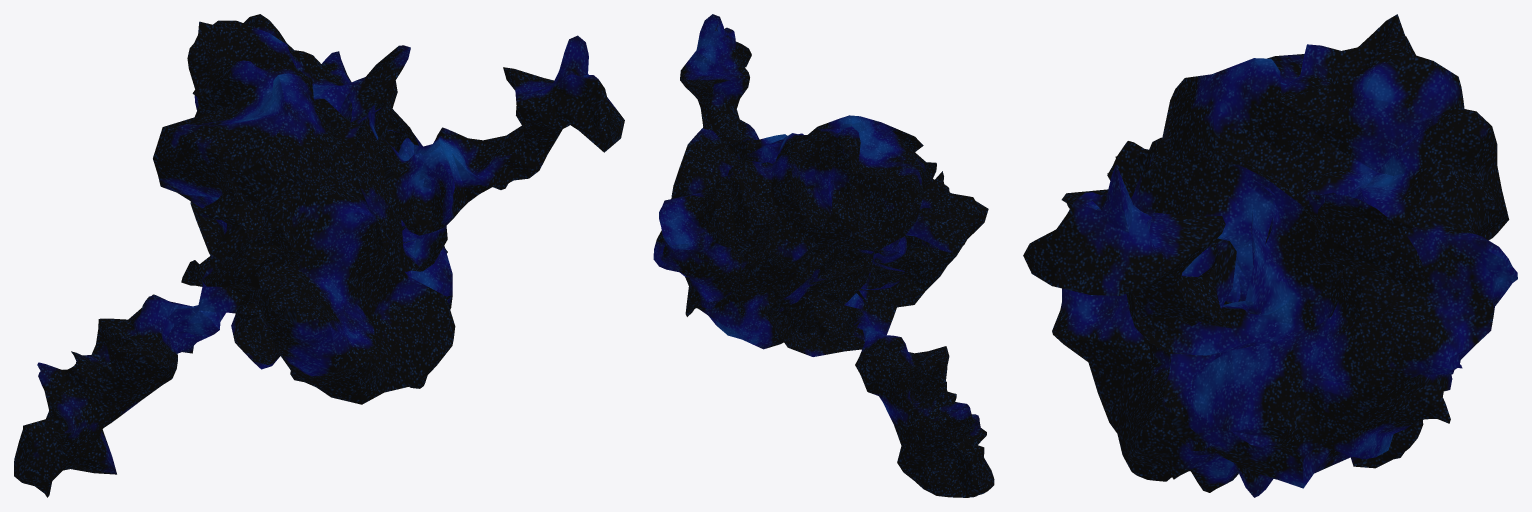
Rendered from crab_01_cloud1.glb.
3 views of the same model, side by side, from view 1: azimuth 30°, elevation 25°; view 2: azimuth 150°, elevation 25°; view 3: azimuth 270°, elevation 25° (orthographic). The views are drawn at different scales.
Visible parts, largest first — view 1: CrabNebulaCloud1Baked; view 2: CrabNebulaCloud1Baked; view 3: CrabNebulaCloud1Baked.
Boxes of the visible parts, x1,y1,x2,y2 form: CrabNebulaCloud1Baked: (14, 14, 624, 497); CrabNebulaCloud1Baked: (653, 14, 994, 497); CrabNebulaCloud1Baked: (1023, 14, 1517, 497).
Bounding box in the file's own units: 9.42 × 7.81 × 6.61.
1 material, 1 textured.
